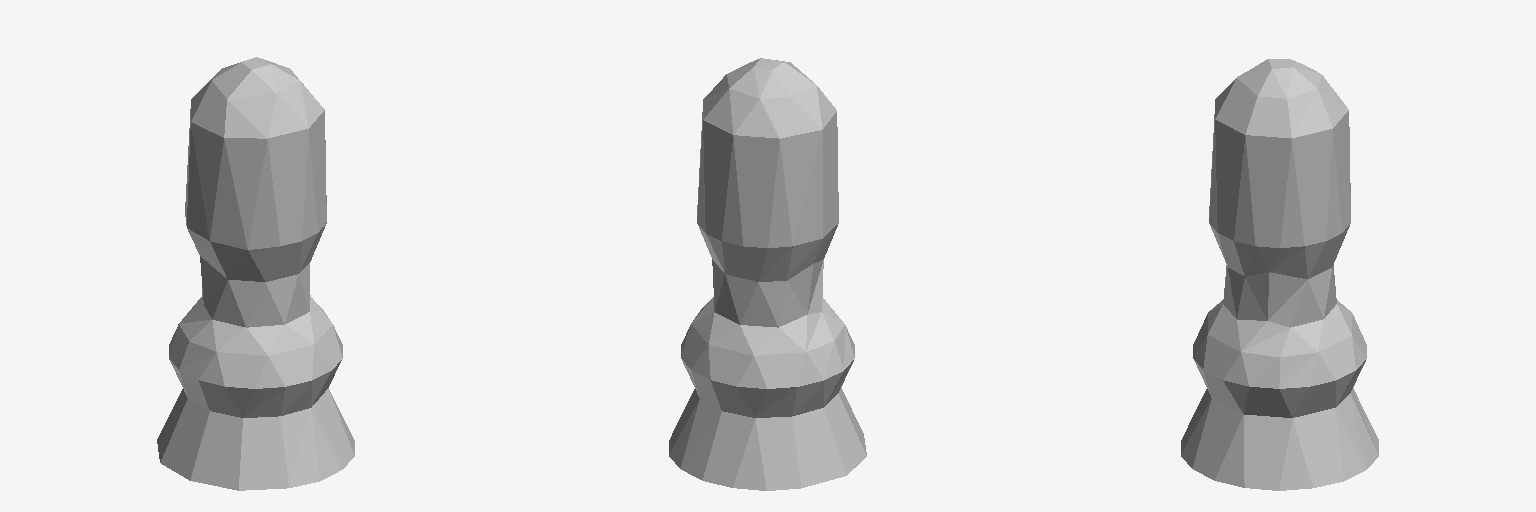
The model's file is light_6.obj.
The picture shows the model from 3 angles: view 1: azimuth 30°, elevation 25°; view 2: azimuth 150°, elevation 25°; view 3: azimuth 270°, elevation 25°; orthographic projection.
Parts seen in each view (by area): view 1: Cylinder001.005_Untitled.011; view 2: Cylinder001.005_Untitled.011; view 3: Cylinder001.005_Untitled.011.
Boxes of the visible parts, box(x1,y1,x2,y2) form: Cylinder001.005_Untitled.011: box(157, 57, 354, 490); Cylinder001.005_Untitled.011: box(669, 58, 866, 490); Cylinder001.005_Untitled.011: box(1181, 59, 1378, 490).
Size of the model in its own units: 0.2348 by 0.4952 by 0.2317.